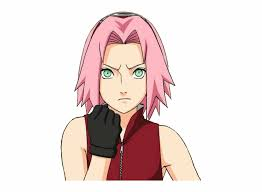sakura: (97, 12, 152, 114)
